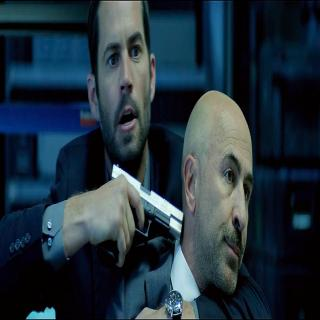gun: (96, 157, 185, 271)
